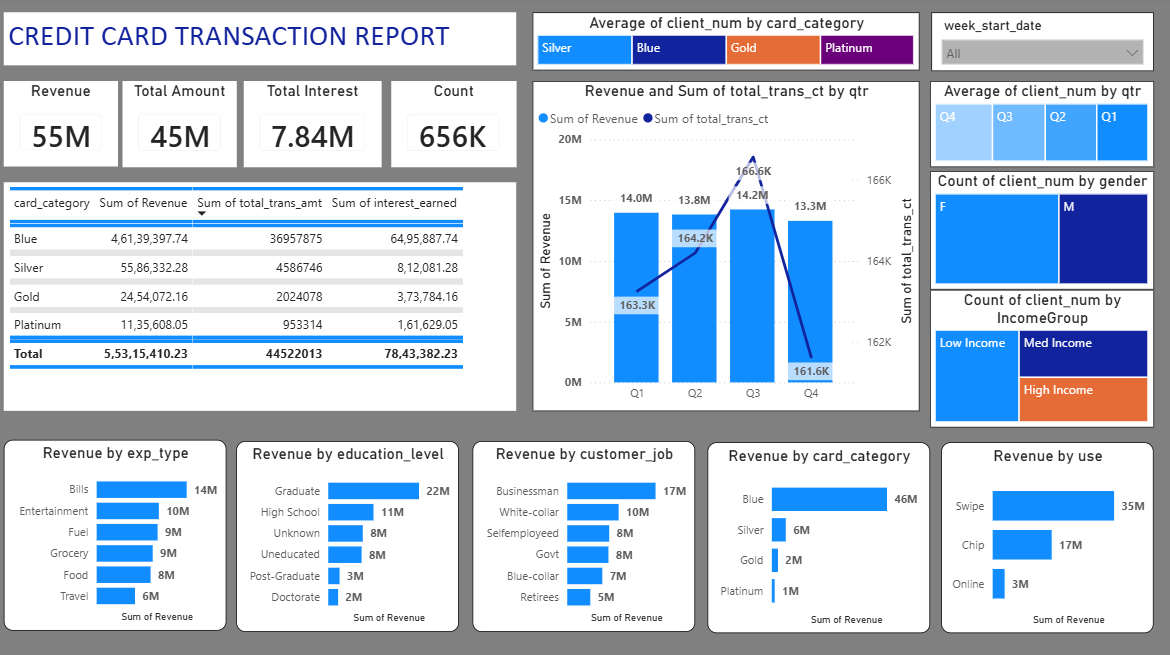

This screenshot's page, from the dashboard's own definition file:
{"tool":"powerbi","page":{"name":"Page 1","canvas":[1280,720],"ordinal":0},"visuals":[{"type":"textbox","box":[9.6,0,677.9,75.5],"z":0},{"type":"lineStackedColumnComboChart","title":"Revenue and Sum of total_trans_ct by qtr","fields":{"Category":["public cc_detail.qtr"],"Y":["Sum(public cc_detail.Revenue)"],"Y2":["Sum(public cc_detail.total_trans_ct)"]},"box":[551.6,223.7,432.2,258],"z":1000},{"type":"barChart","title":"Revenue by exp_type","fields":{"Y":["Sum(public cc_detail.Revenue)"],"Category":["public cc_detail.exp_type"]},"box":[9.6,499.5,241.5,207.2],"z":2000},{"type":"barChart","title":" Revenue by education_level","fields":{"Y":["Sum(public cc_detail.Revenue)"],"Category":["public cust_detail.education_level"]},"box":[262.1,499.5,241.5,207.2],"z":3000},{"type":"barChart","title":" Revenue by customer_job","fields":{"Y":["Sum(public cc_detail.Revenue)"],"Category":["public cust_detail.customer_job"]},"box":[518.7,499.5,241.5,207.2],"z":4000},{"type":"barChart","title":" Revenue by card_category","fields":{"Y":["Sum(public cc_detail.Revenue)"],"Category":["public cc_detail.card_category"]},"box":[778,499.5,241.5,207.2],"z":5000},{"type":"barChart","title":" Revenue by use","fields":{"Y":["Sum(public cc_detail.Revenue)"],"Category":["public cc_detail.use_chip"]},"box":[1040.1,499.5,230.5,207.2],"z":6000},{"type":"tableEx","fields":{"Values":["public cc_detail.card_category","Sum(public cc_detail.Revenue)","Sum(public cc_detail.total_trans_amt)","Sum(public cc_detail.interest_earned)"]},"box":[10,233.3,520.1,248.4],"z":7000},{"type":"cardVisual","title":"Revenue","fields":{"Data":["Sum(public cc_detail.Revenue)"]},"box":[9.6,91.9,178.4,118],"z":8000},{"type":"cardVisual","title":"Total Interest","fields":{"Data":["Sum(public cc_detail.interest_earned)"]},"box":[203.1,91.9,223.7,118],"z":9000},{"type":"cardVisual","title":"Total Amount","fields":{"Data":["Sum(public cc_detail.total_trans_amt)"]},"box":[447.3,91.9,222.3,118],"z":10000},{"type":"cardVisual","title":"Count","fields":{"Data":["Sum(public cc_detail.total_trans_ct)"]},"box":[691.6,91.9,207.2,118],"z":11000},{"type":"slicer","fields":{"Values":["public cc_detail.week_start_date"]},"box":[993.5,37,277.2,75.5],"z":12000},{"type":"treemap","fields":{"Group":["public cc_detail.qtr"],"Values":["Avg(public cc_detail.client_num)"]},"box":[993.5,223.7,286.8,82.3],"z":13000},{"type":"treemap","fields":{"Group":["public cc_detail.qtr"],"Values":["Avg(public cc_detail.client_num)"]},"box":[993.2,223.7,286.8,82.3],"z":14000},{"type":"treemap","fields":{"Group":["public cust_detail.gender"],"Values":["CountNonNull(public cc_detail.client_num)"]},"box":[993.5,311.5,286.8,82.3],"z":15000},{"type":"treemap","fields":{"Values":["CountNonNull(public cc_detail.client_num)"],"Group":["public cust_detail.IncomeGroup"]},"box":[993.5,399.3,286.8,82.3],"z":16000},{"type":"treemap","fields":{"Group":["public cc_detail.card_category"],"Values":["Avg(public cc_detail.client_num)"]},"box":[993.5,127.6,286.8,82.3],"z":17000}]}

Visuals, with their boxes in screenshot pixels (x1, y1, x2, y2), scaled from the page's 1280x720 canvas onto the 1170x655 screenshot:
textbox: box=[9, 0, 628, 69]
"Revenue and Sum of total_trans_ct by qtr" lineStackedColumnComboChart: box=[504, 204, 899, 438]
"Revenue by exp_type" barChart: box=[9, 454, 230, 643]
" Revenue by education_level" barChart: box=[240, 454, 460, 643]
" Revenue by customer_job" barChart: box=[474, 454, 695, 643]
" Revenue by card_category" barChart: box=[711, 454, 932, 643]
" Revenue by use" barChart: box=[951, 454, 1161, 643]
tableEx - public cc_detail.card_category x Sum(public cc_detail.Revenue): box=[9, 212, 485, 438]
"Revenue" cardVisual: box=[9, 84, 172, 191]
"Total Interest" cardVisual: box=[186, 84, 390, 191]
"Total Amount" cardVisual: box=[409, 84, 612, 191]
"Count" cardVisual: box=[632, 84, 822, 191]
slicer - public cc_detail.week_start_date: box=[908, 34, 1161, 102]
treemap - public cc_detail.qtr x Avg(public cc_detail.client_num): box=[908, 204, 1169, 278]
treemap - public cc_detail.qtr x Avg(public cc_detail.client_num): box=[908, 204, 1169, 278]
treemap - public cust_detail.gender x CountNonNull(public cc_detail.client_num): box=[908, 283, 1169, 358]
treemap - CountNonNull(public cc_detail.client_num) x public cust_detail.IncomeGroup: box=[908, 363, 1169, 438]
treemap - public cc_detail.card_category x Avg(public cc_detail.client_num): box=[908, 116, 1169, 191]
